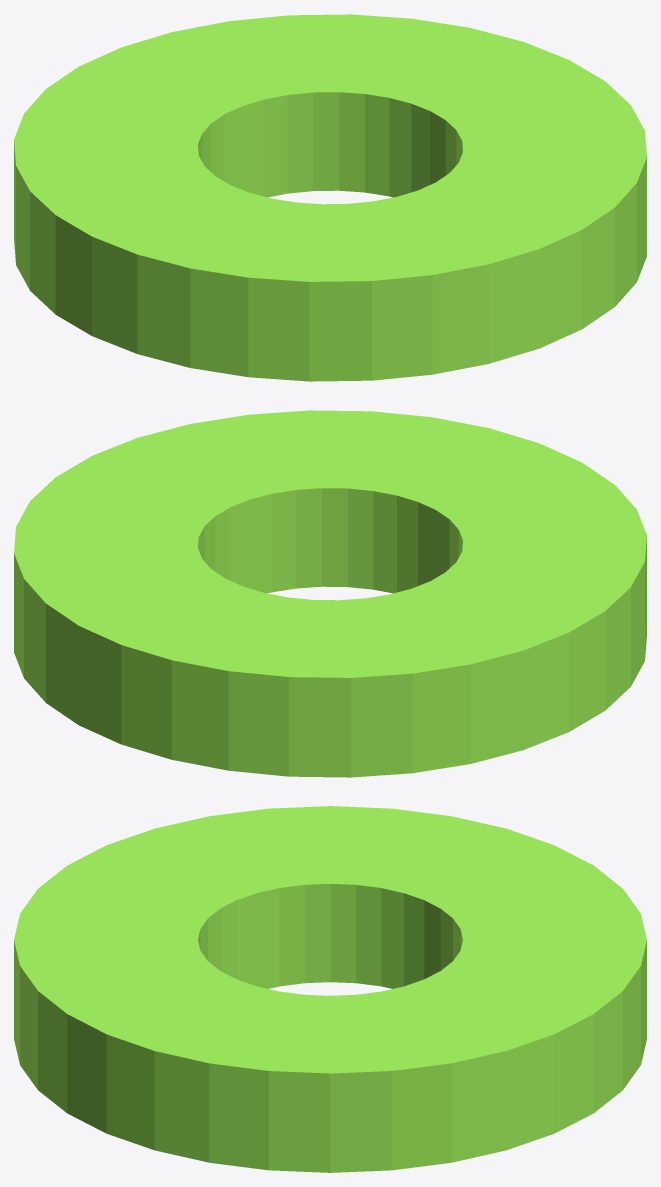
The model's file is green_disk.fbx.
3 views of the same model, one above another, from view 1: azimuth 30°, elevation 25°; view 2: azimuth 150°, elevation 25°; view 3: azimuth 270°, elevation 25° (orthographic).
Parts seen in each view (by area): view 1: Cylinder; view 2: Cylinder; view 3: Cylinder.
Boxes of the visible parts, x1,y1,x2,y2 form: Cylinder: (14,14,646,381); Cylinder: (14,410,646,777); Cylinder: (14,806,646,1172).
Size of the model in its own units: 140 by 140 by 24.2.
